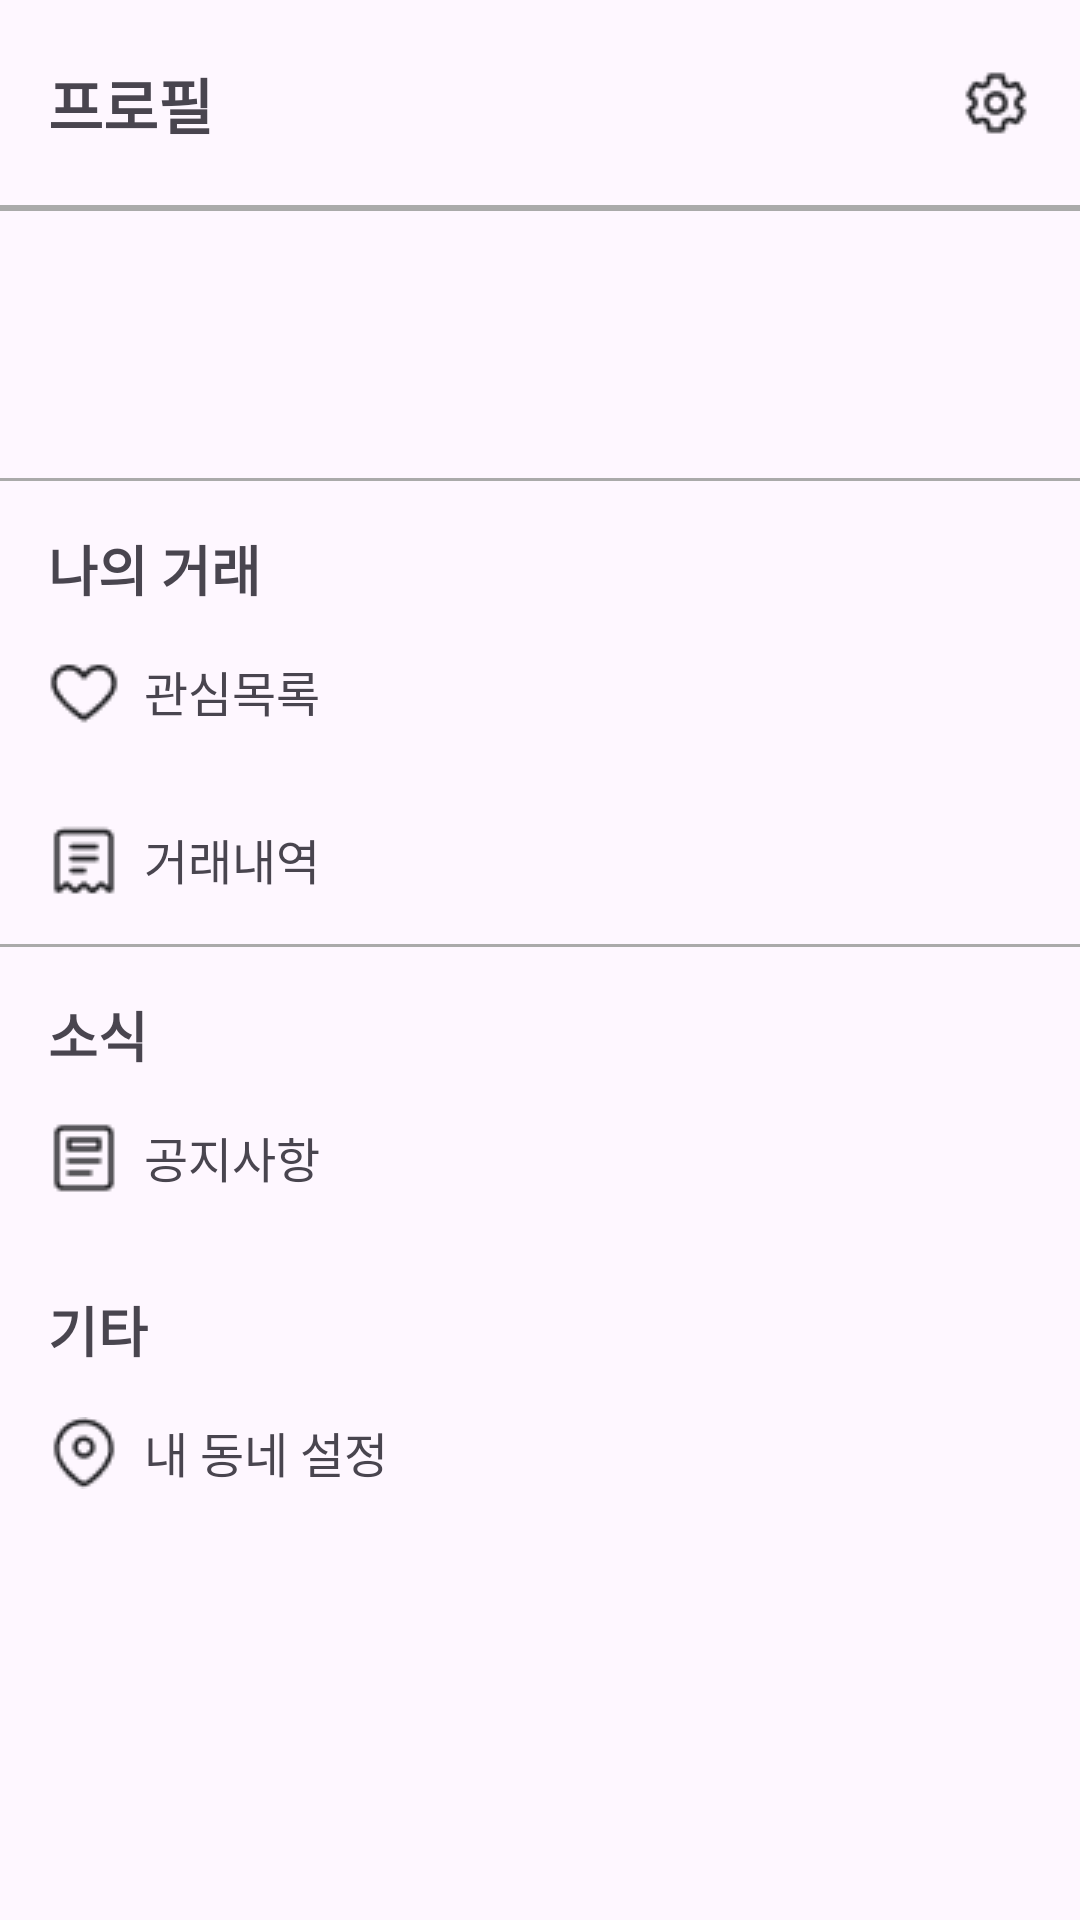

Icons on this 1080w x 1920h Android screen, each with its box as [x1, y1, x2, y2]:
announcement: [53, 1124, 115, 1192]
deal: [53, 827, 115, 894]
favorite: [50, 664, 118, 723]
location: [53, 1417, 115, 1489]
settings: [965, 72, 1027, 134]
